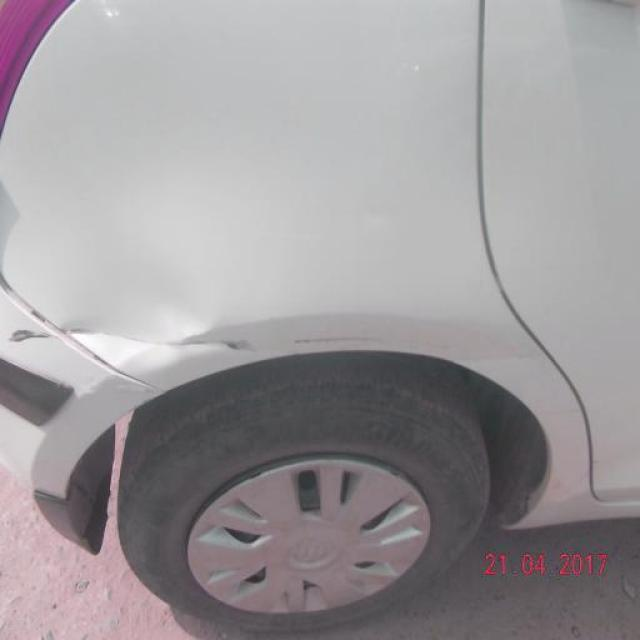Car-Damage: (8, 325, 256, 351), (293, 330, 407, 348)
